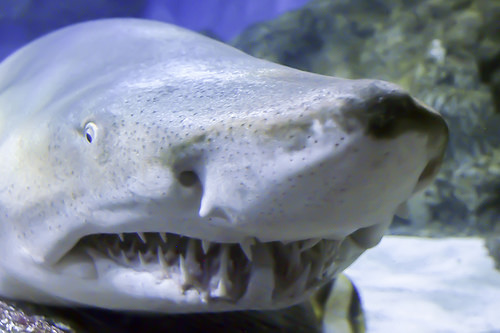shark: (7, 9, 464, 322)
